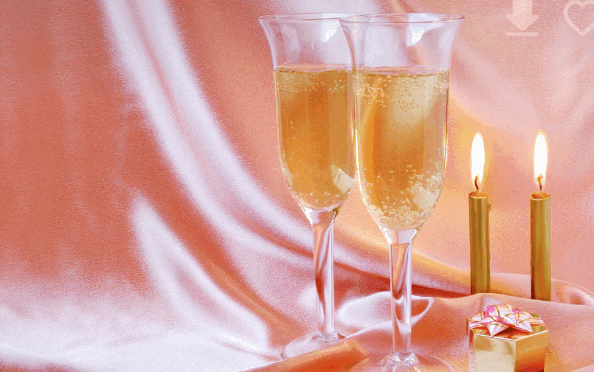Fire: (526, 123, 562, 192), (463, 128, 494, 191)
